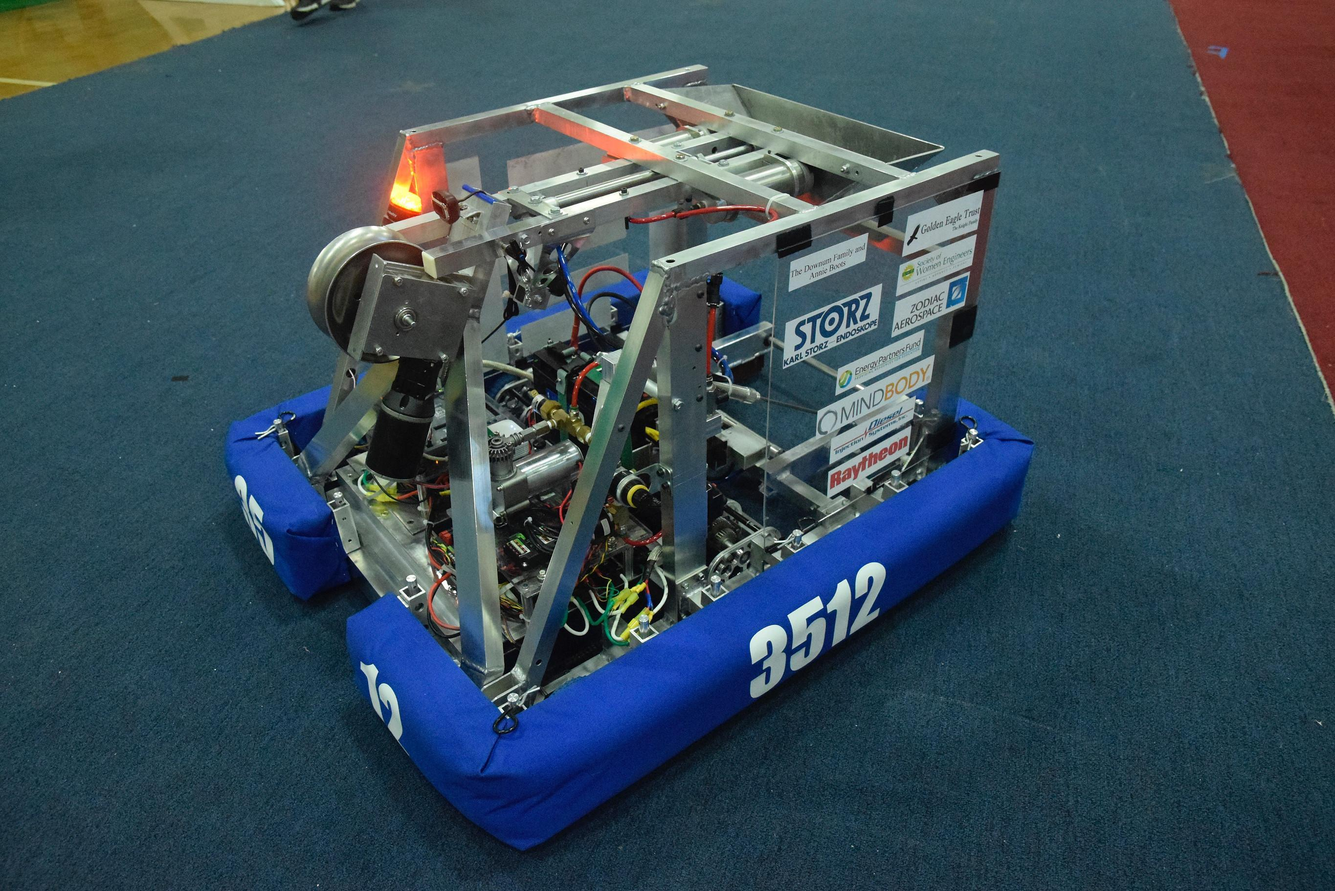robot: (202, 54, 1053, 868)
